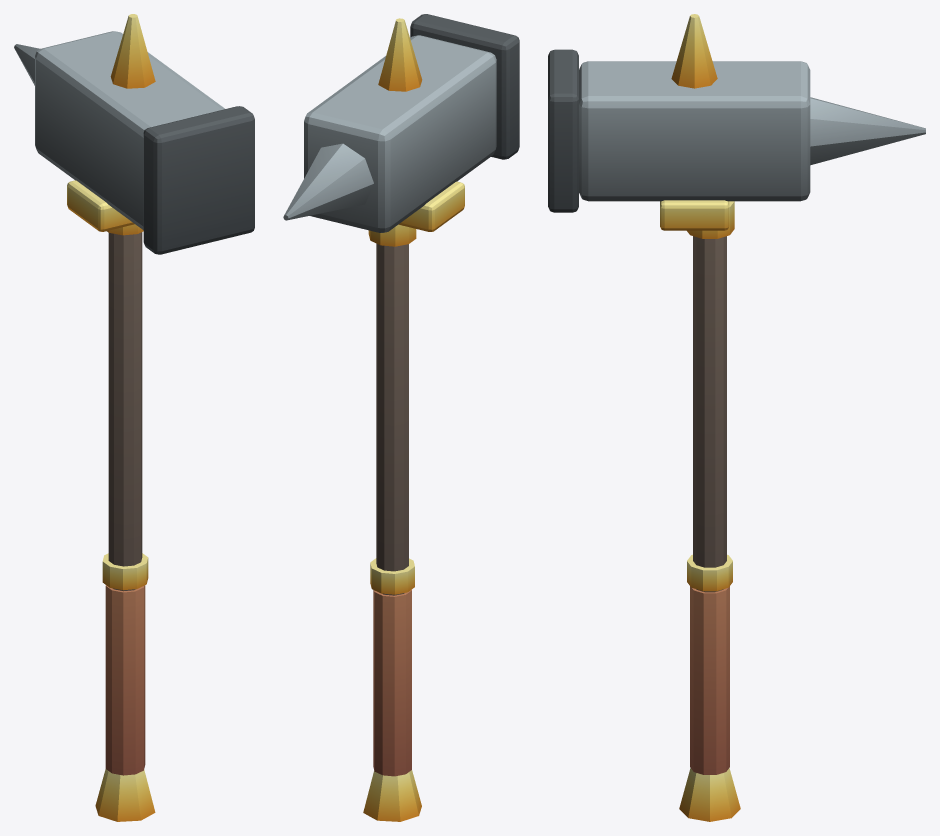
The model's file is forge_warhammer.glb.
3 views of the same model, side by side, from view 1: azimuth 30°, elevation 25°; view 2: azimuth 150°, elevation 25°; view 3: azimuth 270°, elevation 25° (orthographic).
Parts seen in each view (by area): view 1: forge_warhammer.001; view 2: forge_warhammer.001; view 3: forge_warhammer.001.
Part boxes in pixels (left/top/right/bottom): forge_warhammer.001: left=14, top=14, right=254, bottom=821; forge_warhammer.001: left=283, top=14, right=519, bottom=821; forge_warhammer.001: left=548, top=14, right=925, bottom=821.
Size of the model in its own units: 0.1388 by 1.05 by 0.4533.
Materials: 1 (1 with a texture image).
